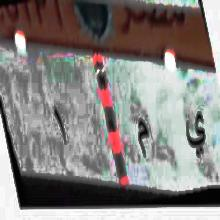1: (51, 98, 69, 152)
meem: (137, 115, 151, 161)
yaa: (183, 104, 208, 158)
